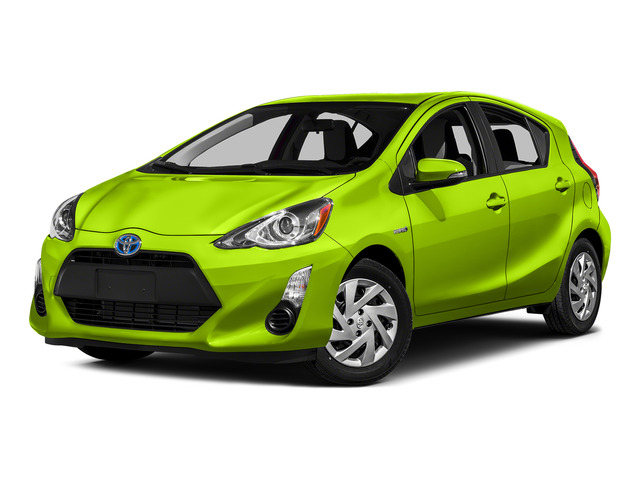Toyota Prius: (26, 89, 614, 388)
